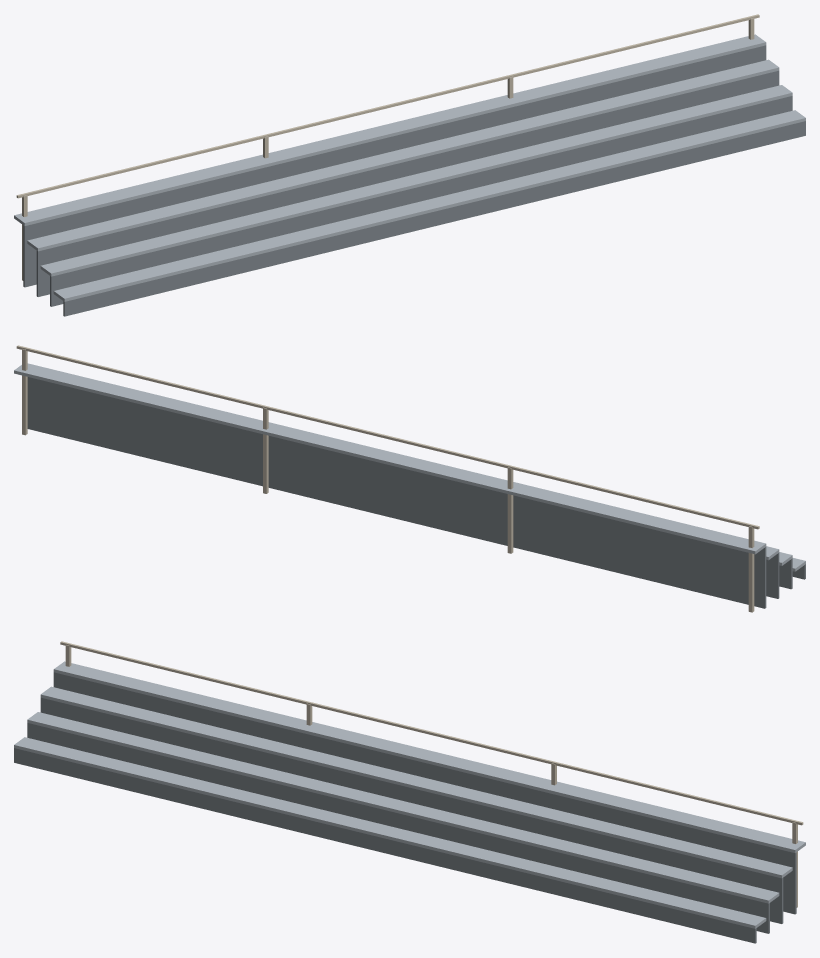
Rendered from bleachers.glb.
The picture shows the model from 3 angles, top to bottom: view 1: azimuth 30°, elevation 25°; view 2: azimuth 150°, elevation 25°; view 3: azimuth 330°, elevation 25°; orthographic projection.
Parts seen in each view (by area): view 1: Box8, Box6, Box4, Box2, Box5, Box3, Box1, Box7, Box13; view 2: Box8, Box7, Box13, Box6, Box11, Box12; view 3: Box8, Box6, Box4, Box2, Box5, Box3, Box1, Box7, Box13.
Part boxes in pixels (x1,y1,x2,y2): Box8: (23, 45, 766, 287); Box6: (36, 70, 779, 296); Box4: (50, 96, 792, 306); Box2: (63, 121, 805, 316); Box5: (27, 59, 779, 251); Box3: (40, 85, 792, 276); Box1: (53, 110, 805, 301); Box7: (14, 34, 766, 225); Box13: (16, 14, 759, 198); Box8: (27, 377, 766, 608); Box7: (14, 363, 766, 554); Box13: (16, 345, 759, 529); Box6: (766, 553, 779, 598); Box11: (507, 467, 513, 553); Box12: (748, 526, 754, 612); Box8: (53, 672, 796, 914); Box6: (40, 697, 783, 923); Box4: (27, 723, 769, 933); Box2: (14, 748, 756, 943); Box5: (40, 686, 792, 878); Box3: (27, 712, 779, 903); Box1: (14, 737, 766, 928); Box7: (53, 661, 805, 852); Box13: (60, 641, 803, 825).
Size of the model in its own units: 20 by 2.23 by 2.36.
